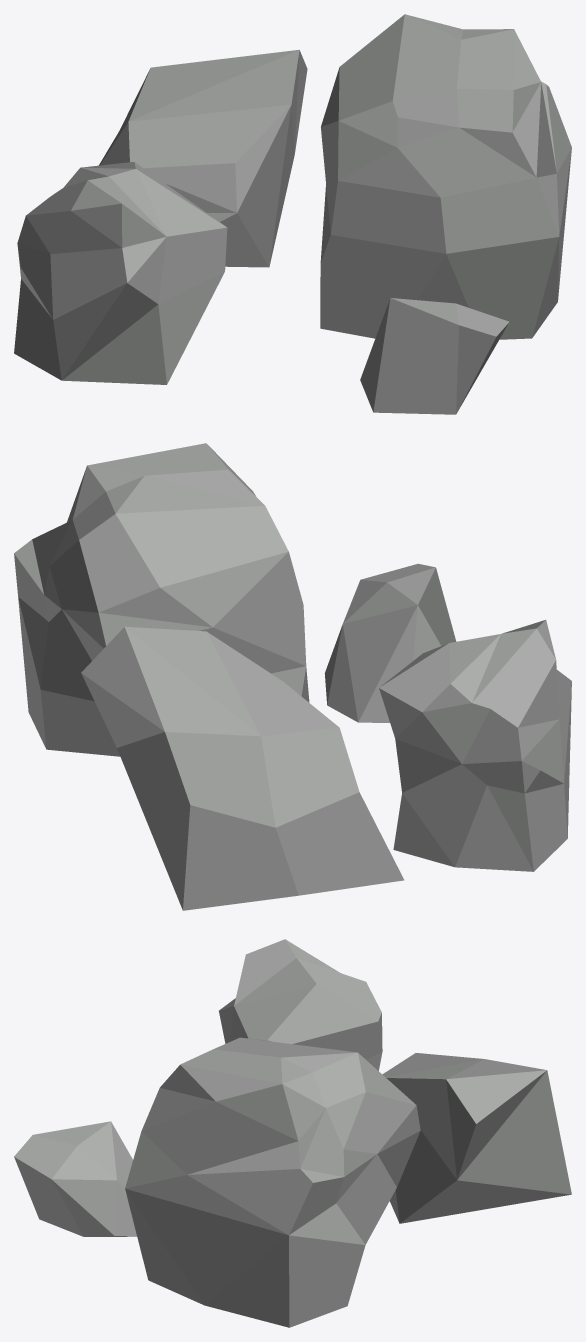
Rendered from iron_ore.glb.
The picture shows the model from 3 angles, top to bottom: view 1: azimuth 30°, elevation 25°; view 2: azimuth 150°, elevation 25°; view 3: azimuth 270°, elevation 25°; orthographic projection. The views are drawn at different scales.
Parts seen in each view (by area): view 1: SM_Iron_Node_042; view 2: SM_Iron_Node_042; view 3: SM_Iron_Node_042.
Boxes of the visible parts, x1,y1,x2,y2 form: SM_Iron_Node_042: (14,14,571,414); SM_Iron_Node_042: (14,443,571,910); SM_Iron_Node_042: (14,939,571,1327).
Bounding box in the file's own units: 0.5294 × 0.2386 × 0.537.
Materials: 1 (1 with a texture image).
